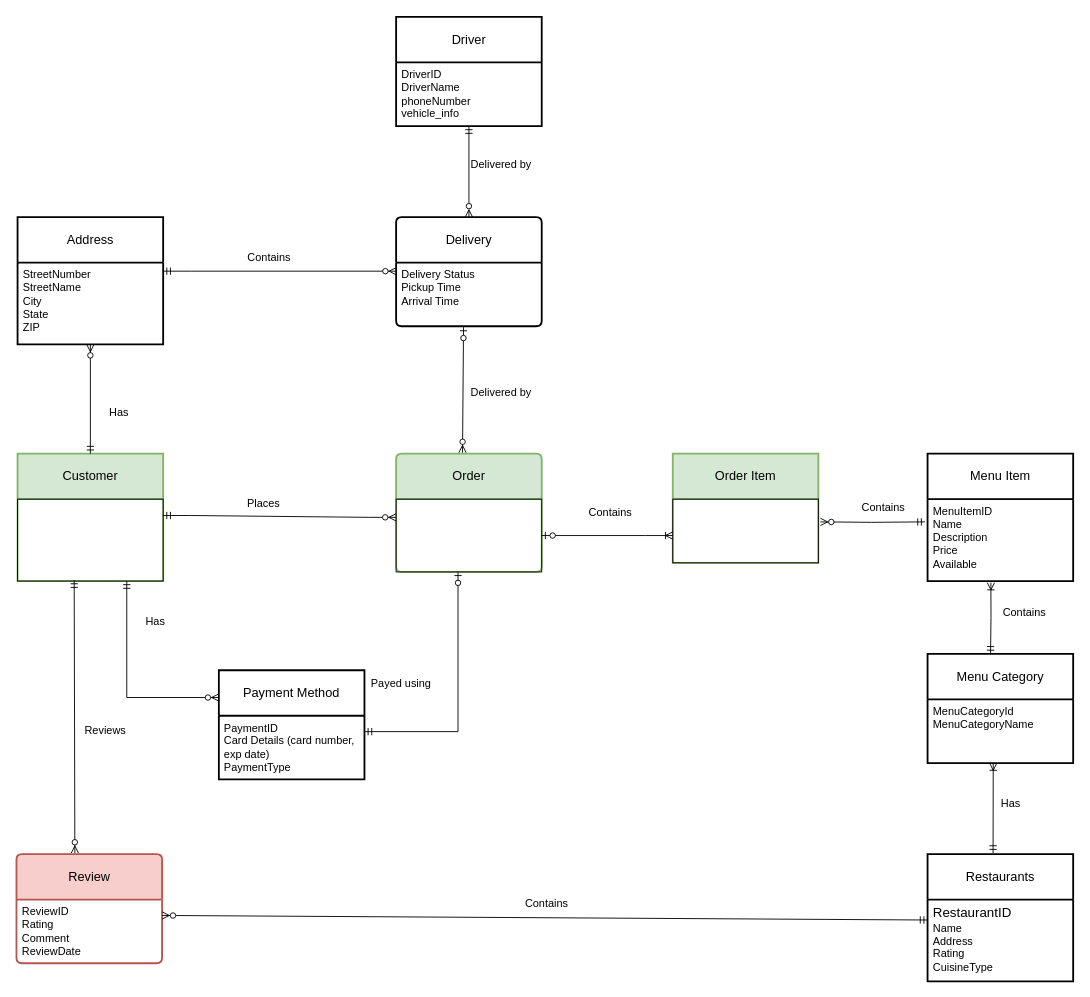
The diagram is 1090 pixels wide and 997 high, and some of its shapes have lost their labels. Here are the shapes that lost their labels. From the top down, the centre of each, then its label:
At (90,539): "CustomerId CustomerName PhoneNumber email password".
At (468,535): "OrderId Total_amount Status OrderDate DeliveryType".
At (745,530): "OrderItemID Quantity UnitPrice notes".
